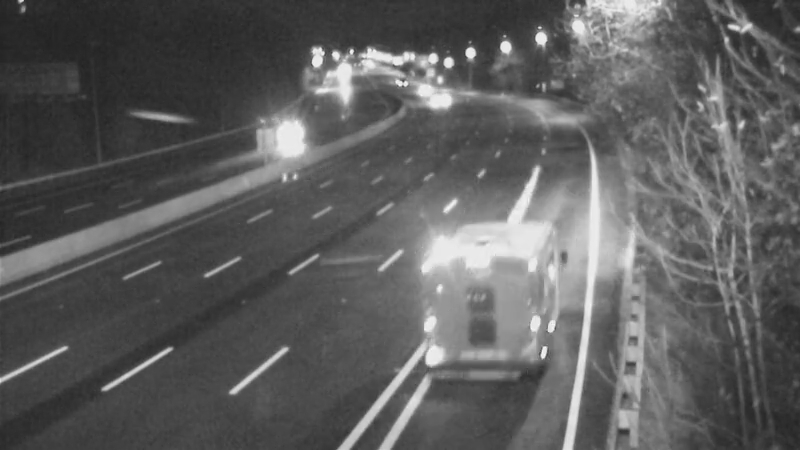vehicle: (451, 246, 561, 356), (373, 54, 423, 104), (391, 61, 441, 111), (410, 75, 460, 125), (261, 112, 311, 162)
